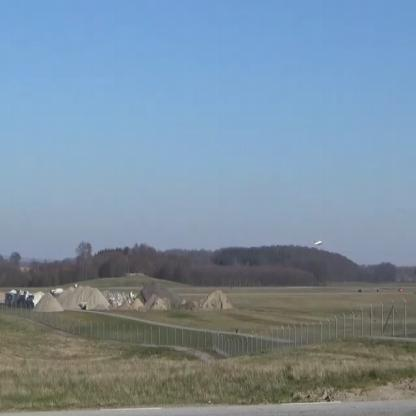CIV_Plane: (314, 238, 325, 247)
